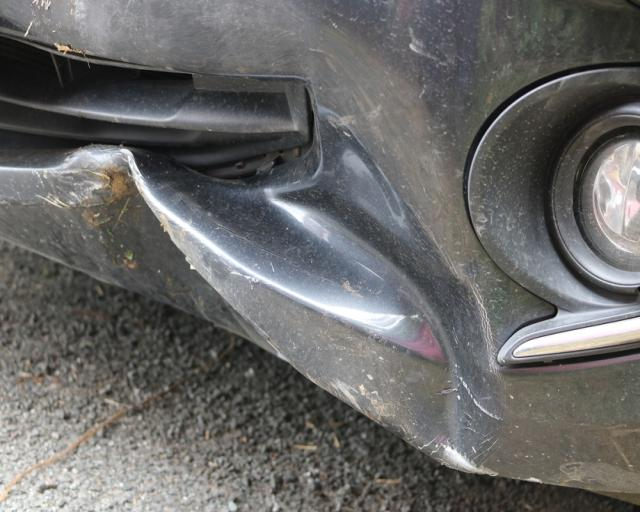dent: (140, 110, 486, 465)
